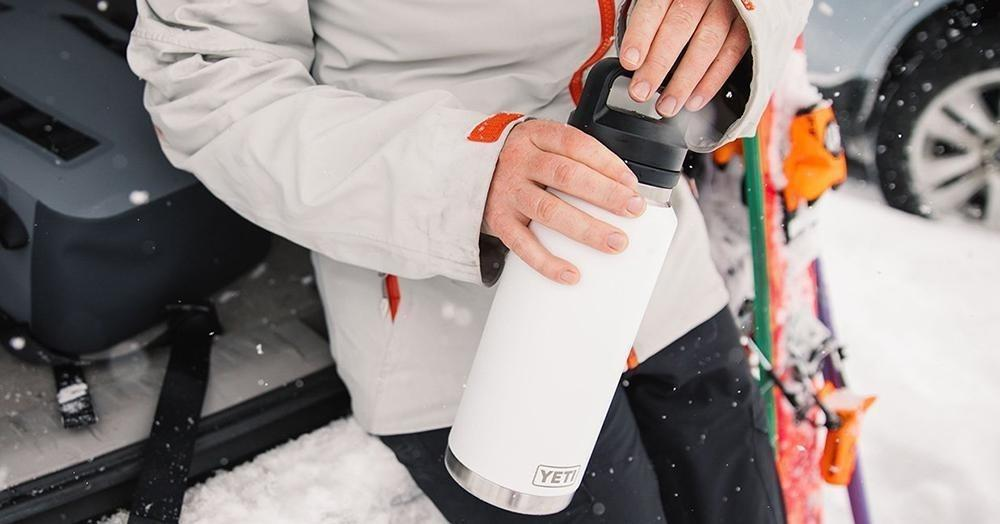gym bottle: (444, 60, 693, 512)
